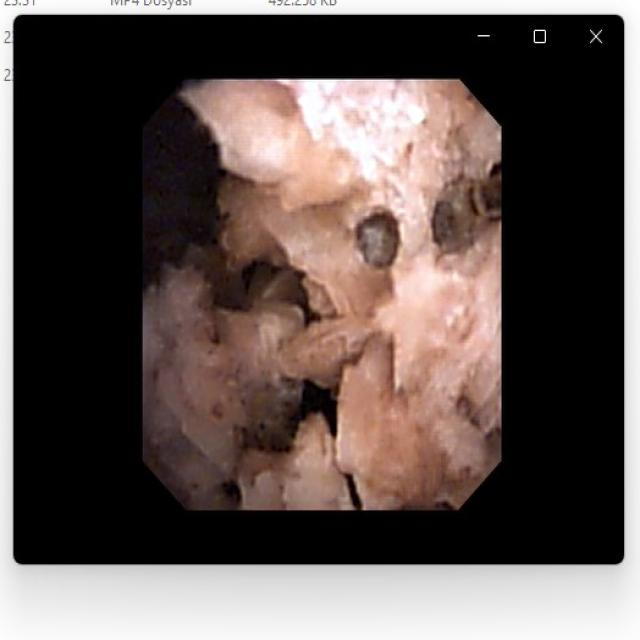stone: (149, 85, 494, 503)
